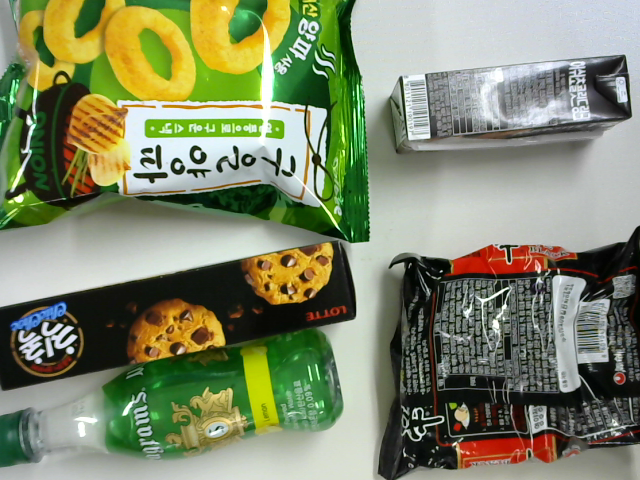Chicchok_Original_2400: (3, 242, 361, 386)
Grilled_Onions: (1, 6, 371, 236)
Hush_Choco_Drink: (389, 48, 629, 158)
Seagram_Lemon_Carbonated_Water: (5, 332, 342, 480)
Sinramen_Black: (377, 226, 638, 480)
